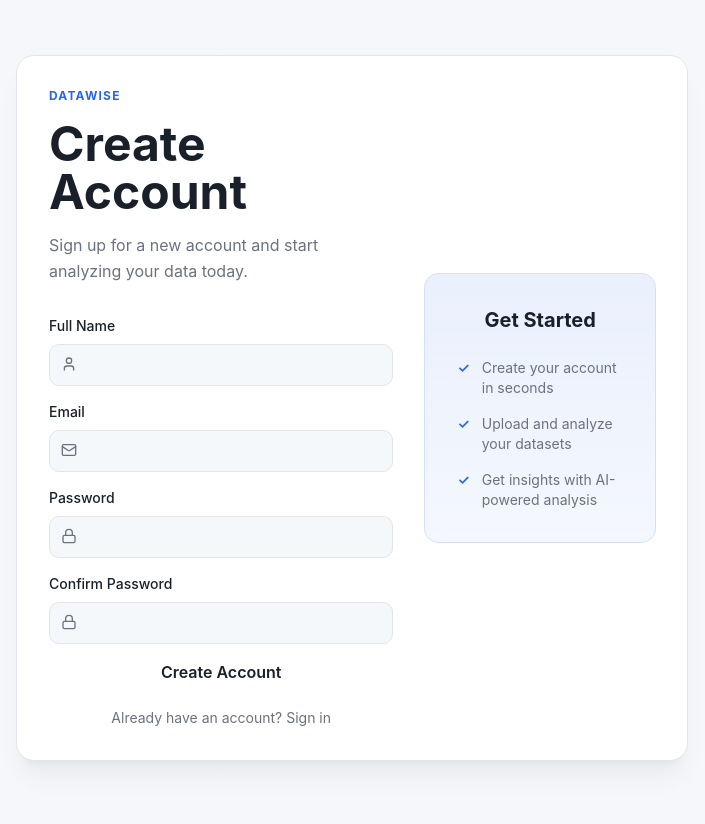
SignupPage › rejects a short password
Type "Alice" into the field labelled "Full Name" at (221, 365), box [49,344,393,386]
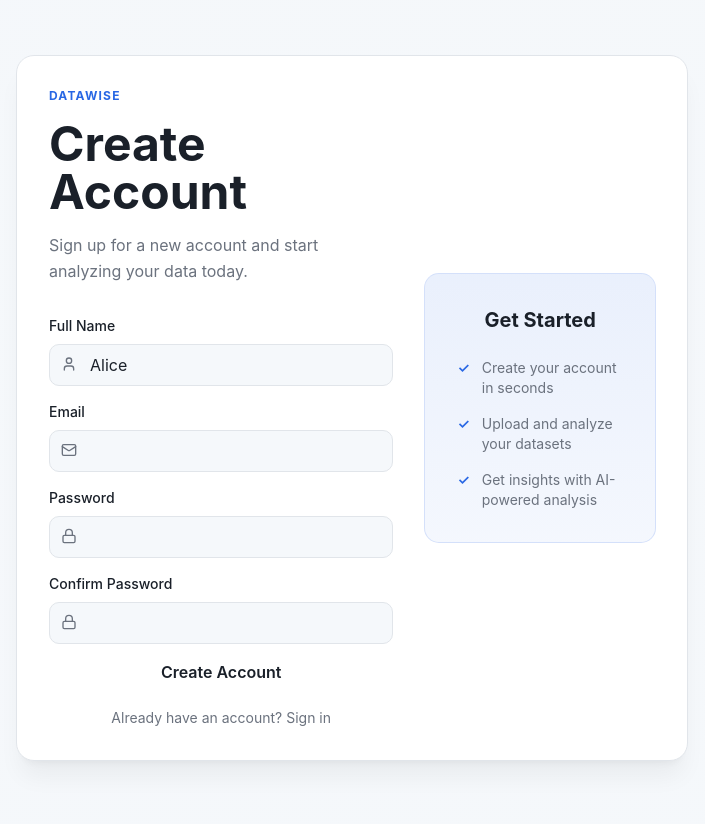
Type "a@b.com" into the field labelled "Email" at (221, 451), box [49,430,393,472]
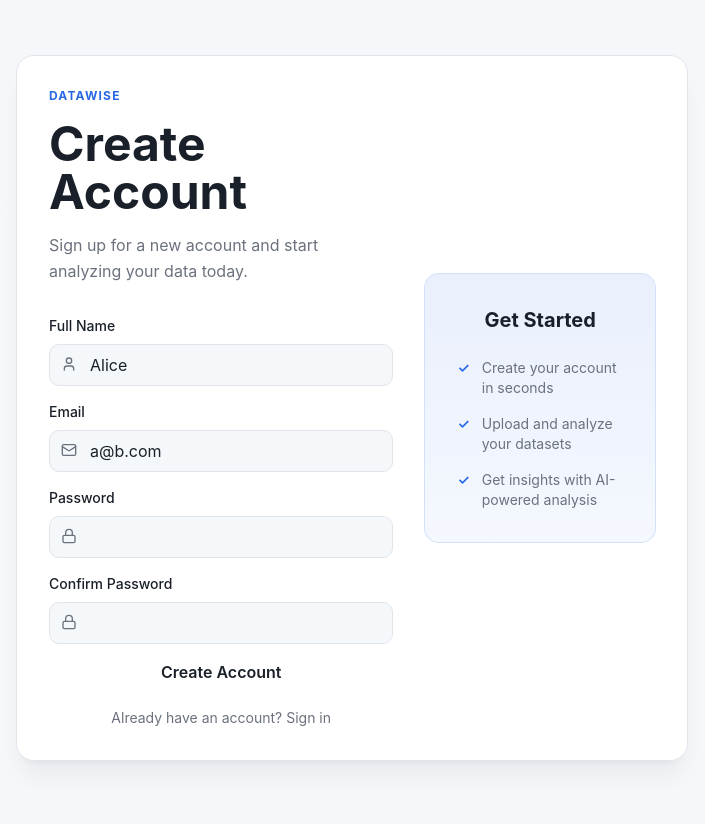
Type "abc" into the password field labelled "Password" at (221, 537), box [49,516,393,558]
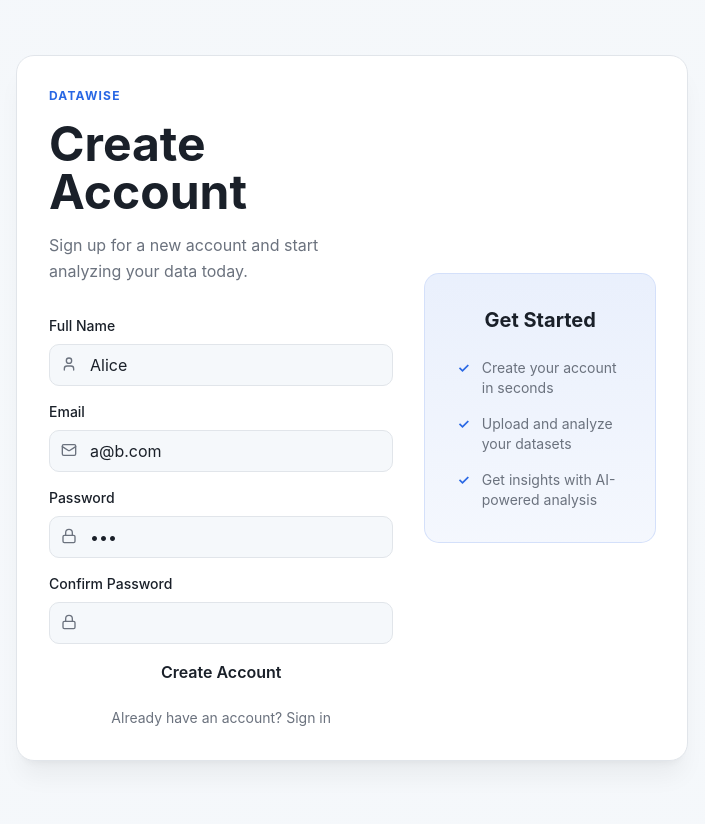
Type "abc" into the password field labelled "Confirm Password" at (221, 623), box [49,602,393,644]
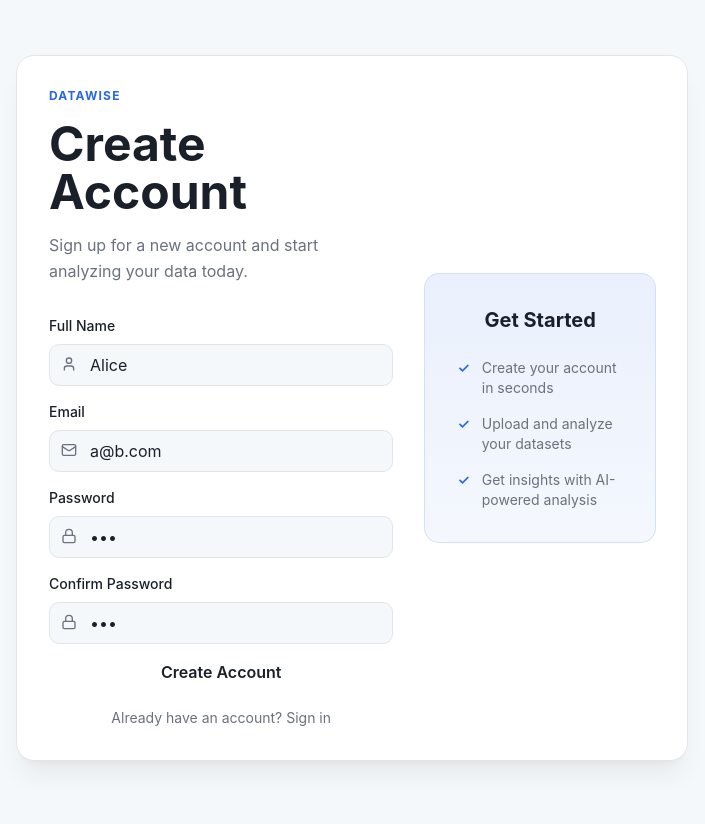
Submit the form "Full Name Email Password Confirm Password Create Account", box [49,308,393,684]
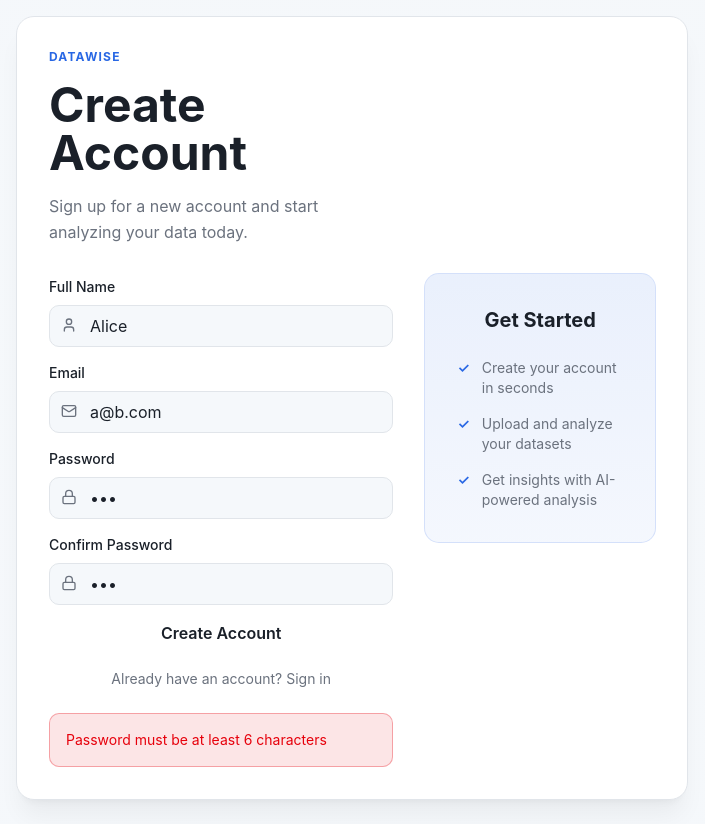
Result: the text "Password must be at least 6 characters" is shown at [49,713,393,767]
